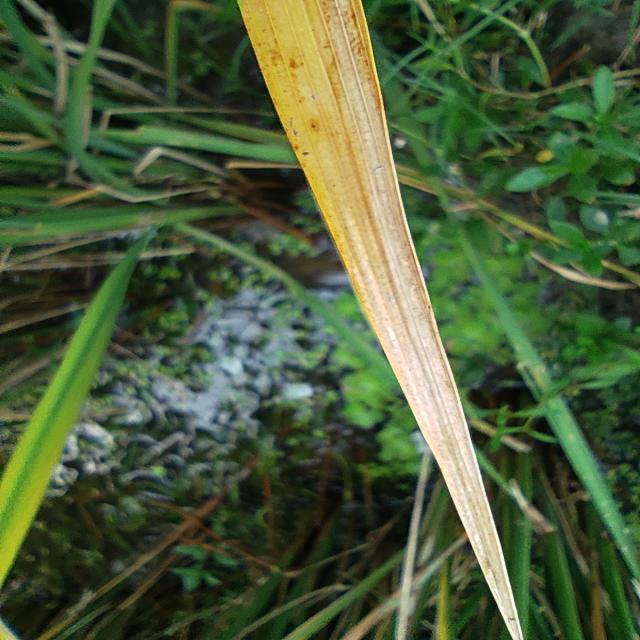Bacterial_Leaf_Blight: (325, 4, 531, 640)
